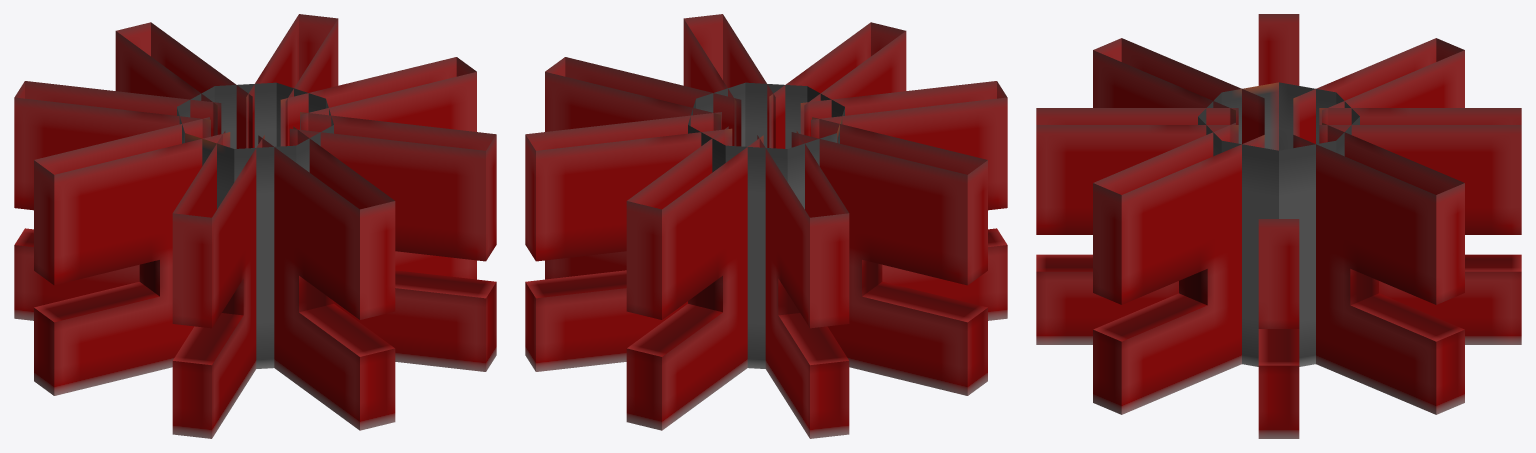
Rendered from chemical_plant_spinner.obj.
3 views of the same model, side by side, from view 1: azimuth 30°, elevation 25°; view 2: azimuth 150°, elevation 25°; view 3: azimuth 270°, elevation 25° (orthographic).
Visible parts, largest first — view 1: Spinner; view 2: Spinner; view 3: Spinner.
Boxes of the visible parts, x1,y1,x2,y2 form: Spinner: [14, 14, 496, 438]; Spinner: [525, 14, 1007, 438]; Spinner: [1036, 14, 1521, 438].
Size of the model in its own units: 1.5 by 0.75 by 1.5.
